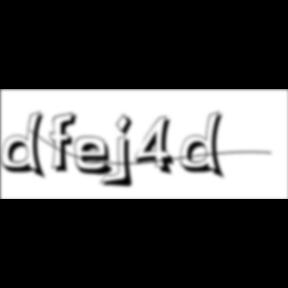4: (134, 115, 180, 179)
d: (2, 110, 52, 182), (180, 110, 230, 182)
e: (74, 135, 120, 178)
f: (50, 111, 82, 175)
j: (112, 113, 140, 191)
